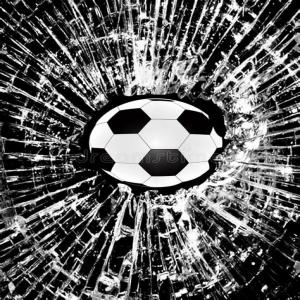Football: (85, 97, 223, 187)
